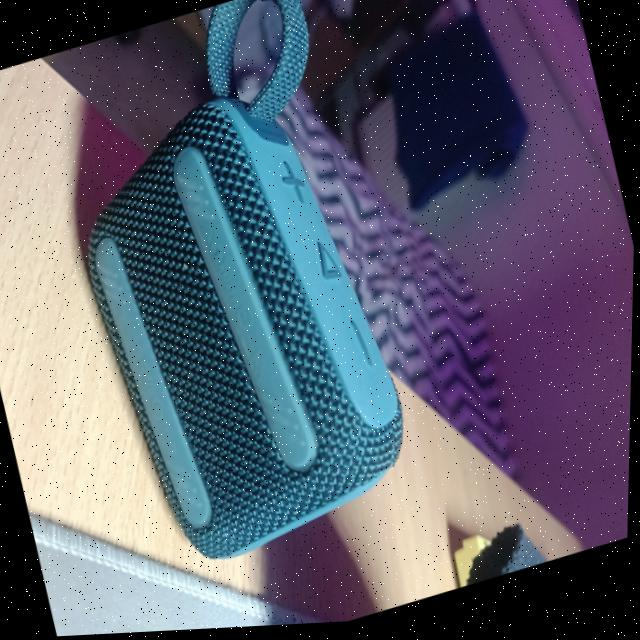column JBL: (23, 0, 436, 607)
